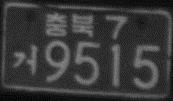1: (110, 43, 124, 92)
5: (132, 42, 160, 90), (74, 39, 100, 87)
7: (104, 13, 129, 41)
9: (44, 38, 72, 82)
거: (12, 42, 38, 78)
충북_O: (44, 11, 95, 37)
